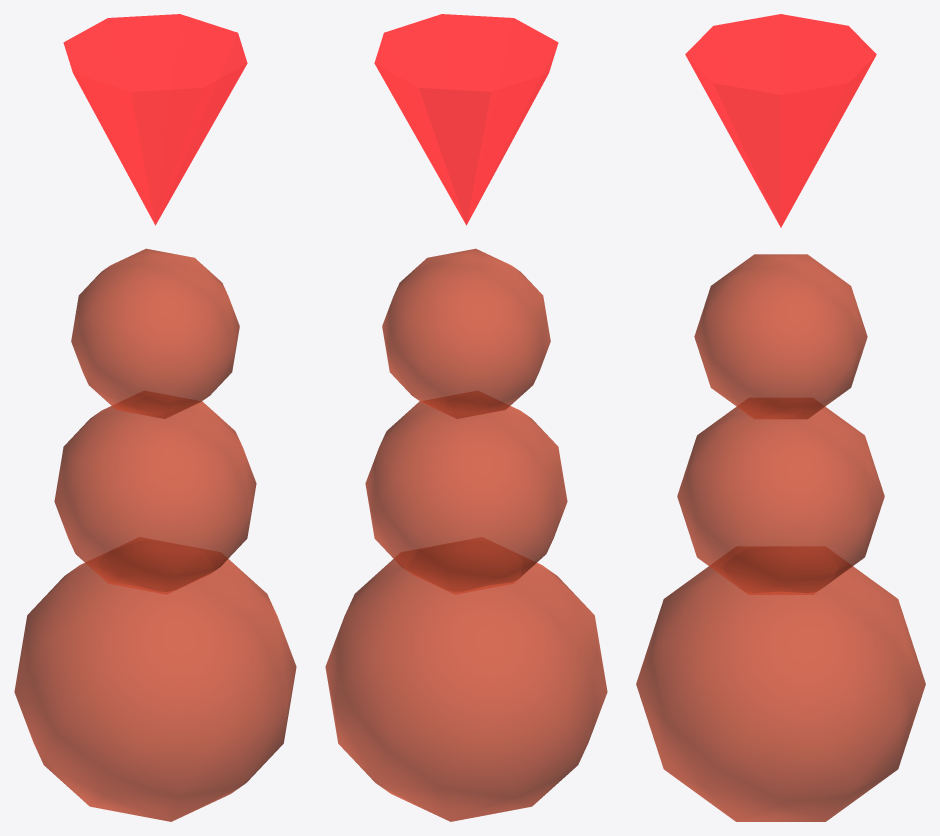
The model's file is enemy_red.glb.
3 views of the same model, side by side, from view 1: azimuth 30°, elevation 25°; view 2: azimuth 150°, elevation 25°; view 3: azimuth 270°, elevation 25° (orthographic).
Parts seen in each view (by area): view 1: red_snowman, red_cone; view 2: red_snowman, red_cone; view 3: red_snowman, red_cone.
Part boxes in pixels (left/top/right/bottom): red_snowman: left=14, top=248, right=296, bottom=821; red_cone: left=63, top=14, right=247, bottom=225; red_snowman: left=325, top=248, right=607, bottom=821; red_cone: left=374, top=14, right=558, bottom=225; red_snowman: left=636, top=254, right=925, bottom=821; red_cone: left=685, top=14, right=876, bottom=227.
Size of what is drawn, in the model's own units: 0.7671 by 2.34 by 0.8066.
